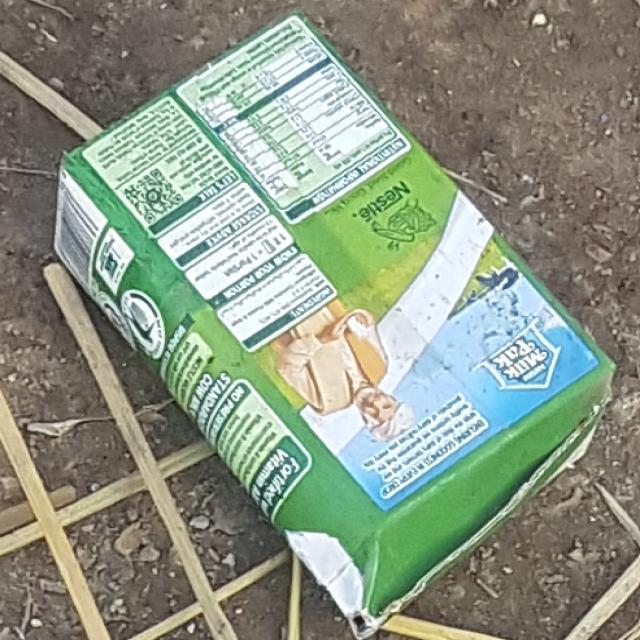electronic: (49, 10, 617, 639)
